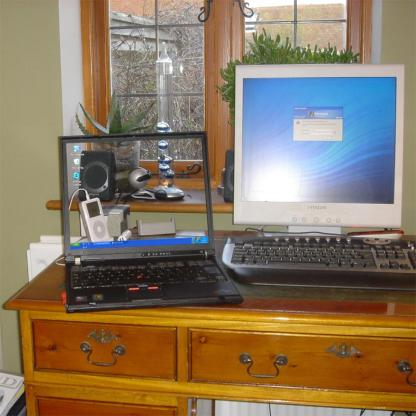board: (54, 128, 242, 311)
